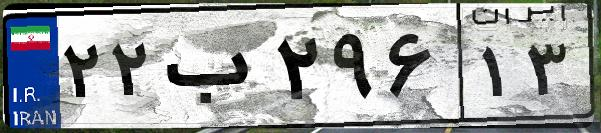1: (475, 38, 525, 113)
2: (270, 28, 330, 110), (57, 26, 110, 100), (110, 28, 158, 98)
3: (525, 38, 570, 115)
6: (385, 28, 445, 110)
9: (330, 28, 385, 110)
ب: (158, 20, 270, 120)
